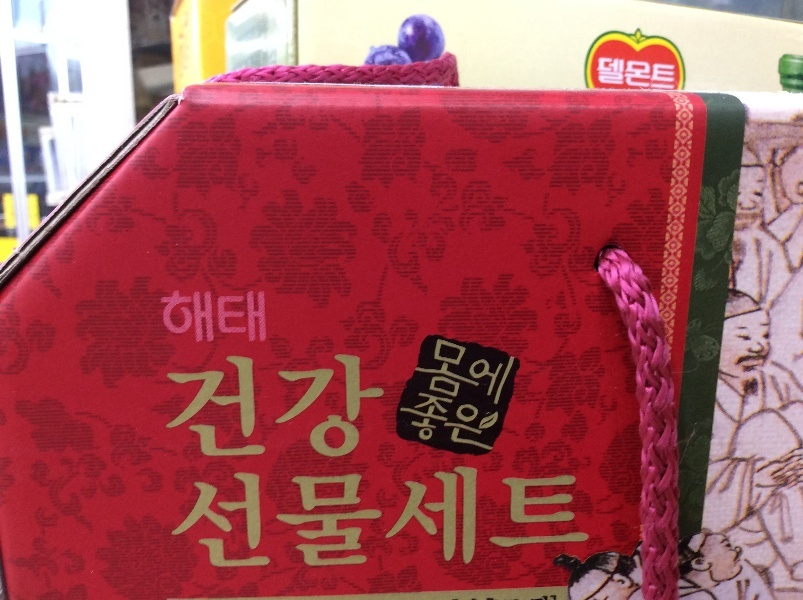text: (577, 462, 593, 575), (369, 349, 385, 461), (177, 462, 192, 575), (193, 462, 208, 575), (209, 462, 224, 575), (225, 462, 240, 575), (241, 462, 256, 575), (257, 462, 272, 575), (273, 462, 288, 575), (289, 462, 304, 575), (305, 462, 320, 575), (321, 462, 336, 575), (337, 462, 352, 575), (353, 462, 368, 575), (369, 462, 384, 575), (385, 462, 400, 575), (401, 462, 416, 575), (417, 462, 432, 575), (433, 462, 448, 575), (449, 462, 464, 575), (465, 462, 480, 575), (481, 462, 496, 575), (497, 462, 512, 575), (513, 462, 528, 575), (529, 462, 544, 575), (545, 462, 560, 575), (561, 462, 576, 575), (177, 349, 192, 461), (193, 349, 208, 461), (209, 349, 224, 461), (225, 349, 240, 461), (241, 349, 256, 461), (257, 349, 272, 461), (273, 349, 288, 461), (289, 349, 304, 461), (305, 349, 320, 461), (321, 349, 336, 461), (337, 349, 352, 461), (353, 349, 368, 461), (449, 338, 464, 412), (465, 338, 480, 412), (481, 338, 496, 412), (497, 338, 512, 412), (417, 387, 432, 459), (433, 387, 448, 459), (449, 387, 464, 459), (465, 387, 480, 459), (481, 387, 496, 459), (167, 349, 176, 461), (435, 338, 448, 412), (161, 287, 176, 348), (177, 287, 192, 348), (193, 287, 208, 348), (209, 287, 224, 348), (225, 287, 240, 348), (241, 287, 256, 348), (257, 287, 268, 348), (609, 55, 624, 92), (625, 55, 640, 92), (641, 55, 656, 92), (657, 55, 672, 92), (513, 338, 518, 412), (598, 55, 608, 92), (497, 387, 502, 459), (412, 387, 416, 459), (673, 55, 677, 92), (159, 287, 160, 348)
